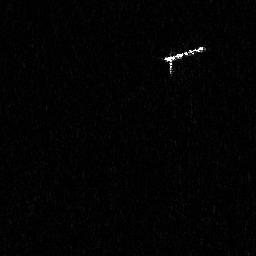ship: (161, 45, 207, 78)
